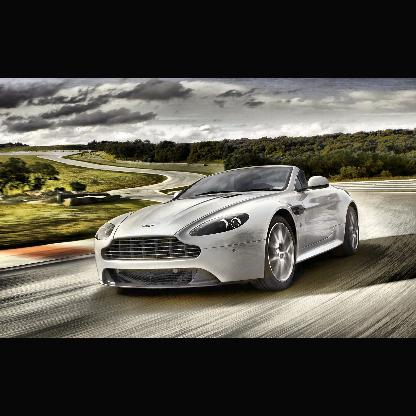Aston Martin V8 Vantage Convertible 2012: (94, 165, 363, 291)
